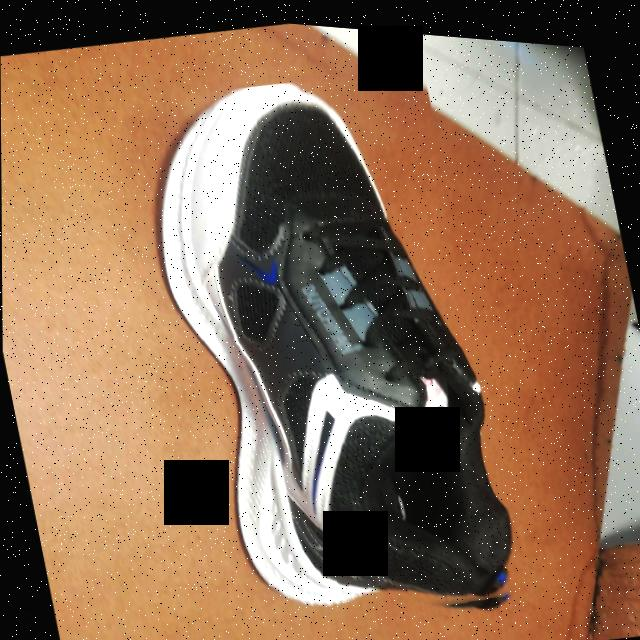shoe: (126, 42, 530, 640)
